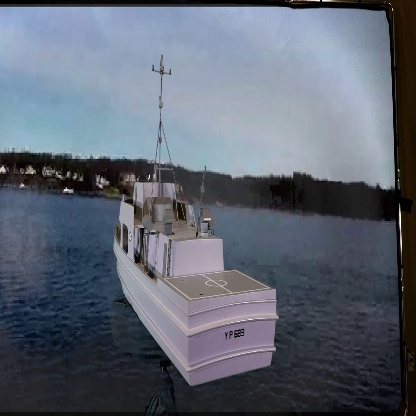YP689: (112, 54, 279, 387)
